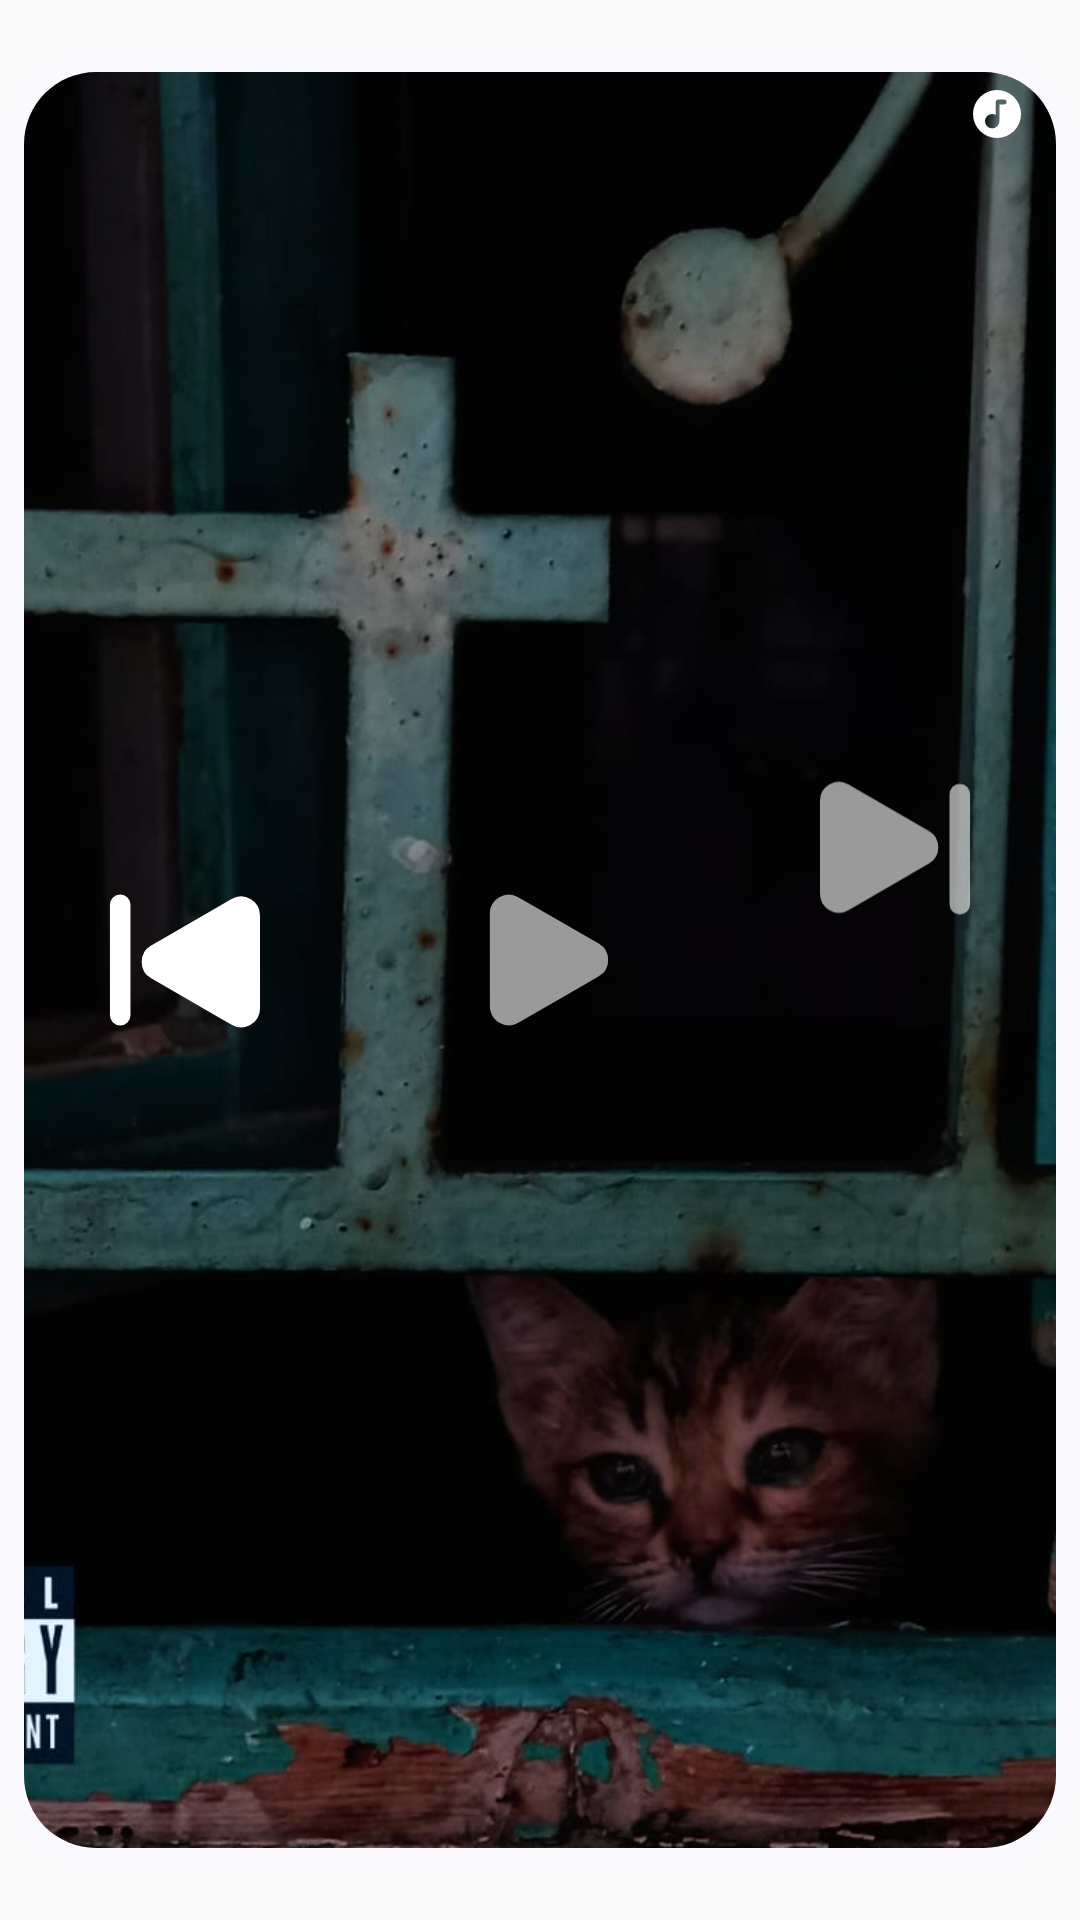

Icon click points for this 1080 × 1920 phone screenshot, format point (x, y):
genres: point (997, 114)
